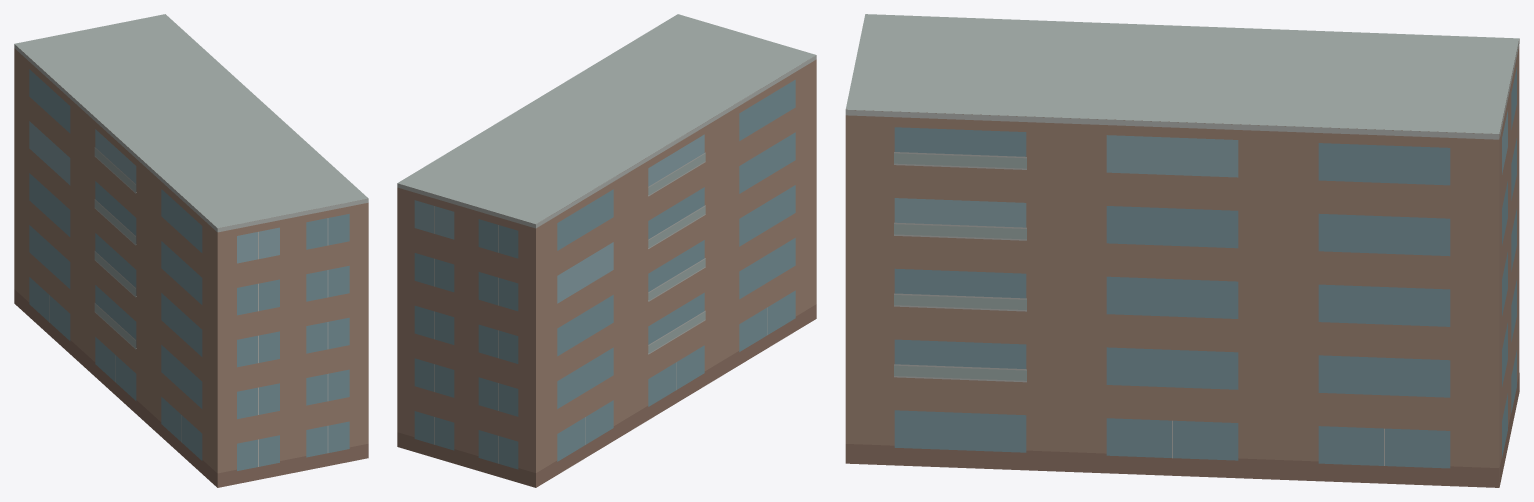
The model's file is residential-3cc4706b-8f18-42c9-9130-63c43d75d8de.glb.
3 views of the same model, side by side, from view 1: azimuth 30°, elevation 25°; view 2: azimuth 150°, elevation 25°; view 3: azimuth 270°, elevation 25° (orthographic). The views are drawn at different scales.
Visible parts, largest first — view 1: residential-3cc4706b-8f18-42c9-9130-63c43d75d8de.tmp; view 2: residential-3cc4706b-8f18-42c9-9130-63c43d75d8de.tmp; view 3: residential-3cc4706b-8f18-42c9-9130-63c43d75d8de.tmp.
Part boxes in pixels (x1=…): residential-3cc4706b-8f18-42c9-9130-63c43d75d8de.tmp: x1=14, y1=14, x2=368, y2=487; residential-3cc4706b-8f18-42c9-9130-63c43d75d8de.tmp: x1=397, y1=14, x2=816, y2=487; residential-3cc4706b-8f18-42c9-9130-63c43d75d8de.tmp: x1=845, y1=14, x2=1519, y2=487.
Bounding box in the file's own units: 11.11 × 15.25 × 26.33.
